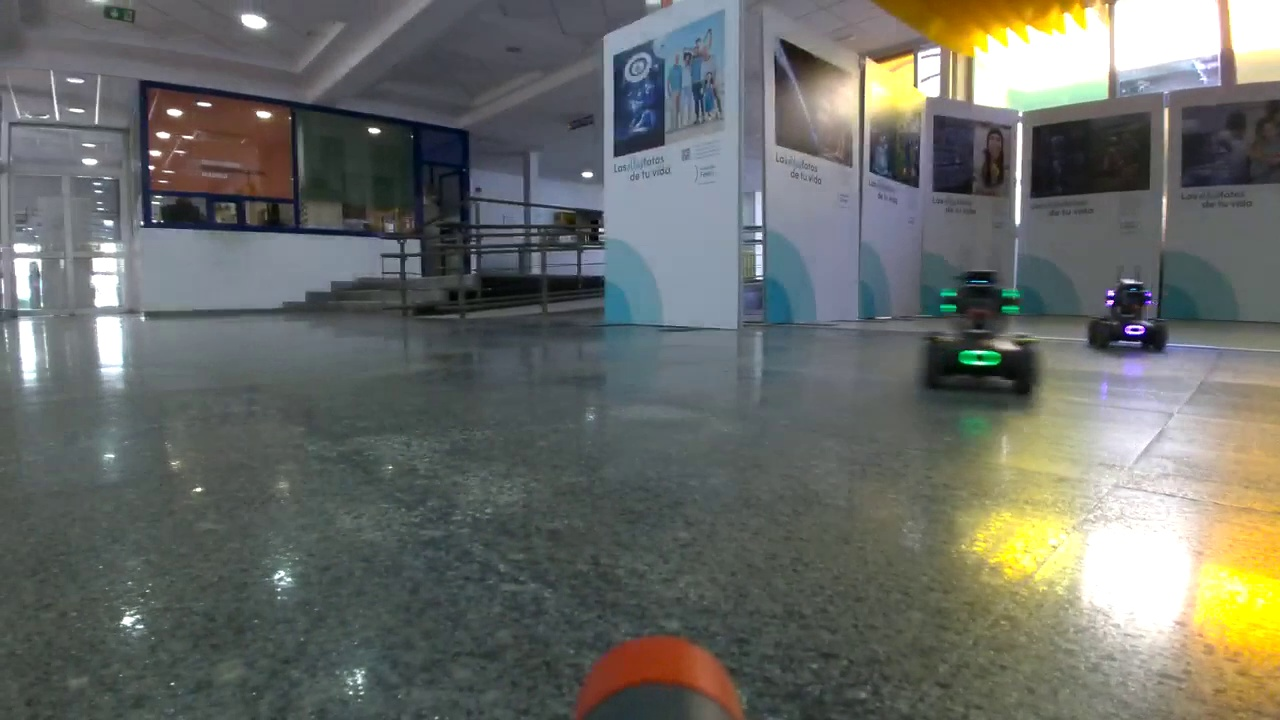robot: (928, 270, 1036, 405), (1088, 263, 1167, 357)
